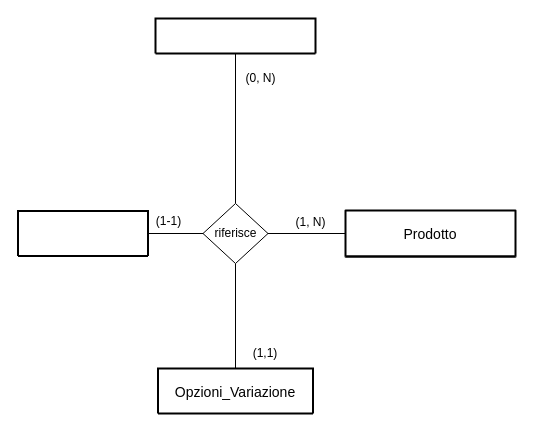
The diagram is 534 pixels wide and 431 high, and some of its shapes have lost their labels. The centre of each missing label's shape, as x and y in pixels:
Carrello: (x=235, y=35)
Dettaglio ordine: (x=82, y=233)
